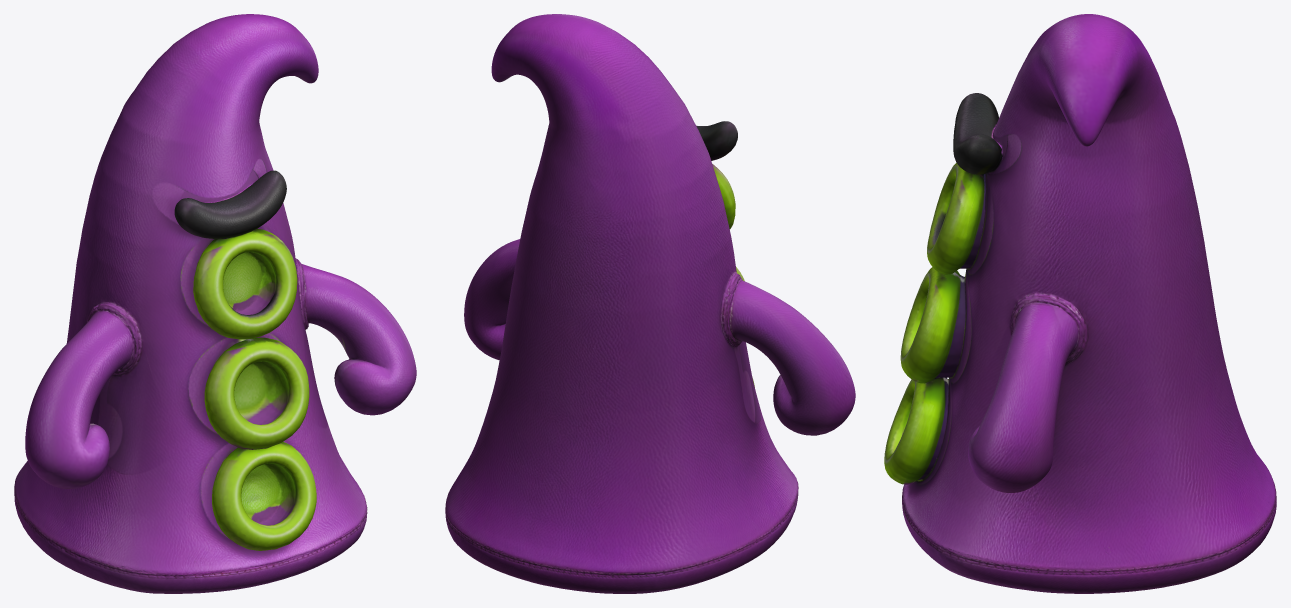
Rendered from varco-source.glb.
3 renders of one model, left to right at view 1: azimuth 30°, elevation 25°; view 2: azimuth 150°, elevation 25°; view 3: azimuth 270°, elevation 25°, orthographic. The views are drawn at different scales.
Parts seen in each view (by area): view 1: texture_mapping; view 2: texture_mapping; view 3: texture_mapping.
Boxes of the visible parts, left/top/right/bottom form: texture_mapping: left=14, top=14, right=416, bottom=593; texture_mapping: left=445, top=14, right=855, bottom=593; texture_mapping: left=884, top=14, right=1276, bottom=593.
Size of the model in its own units: 0.8041 by 1 by 0.6735.
Materials: 1 (1 with a texture image).
